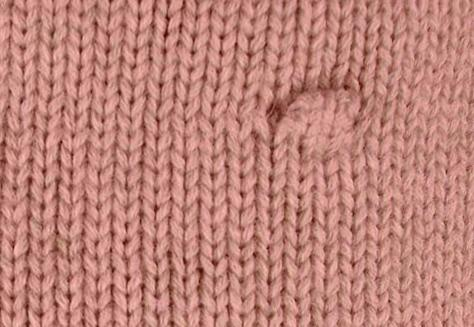knot: (271, 81, 372, 159)
